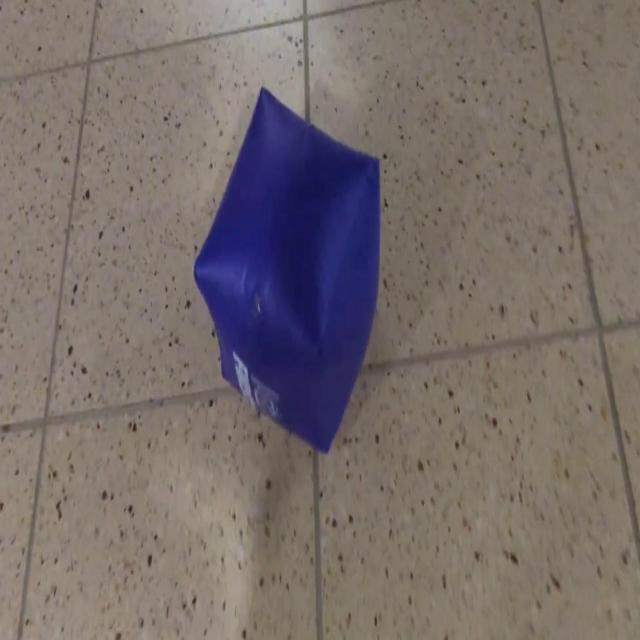frc_cube: (194, 83, 382, 450)
